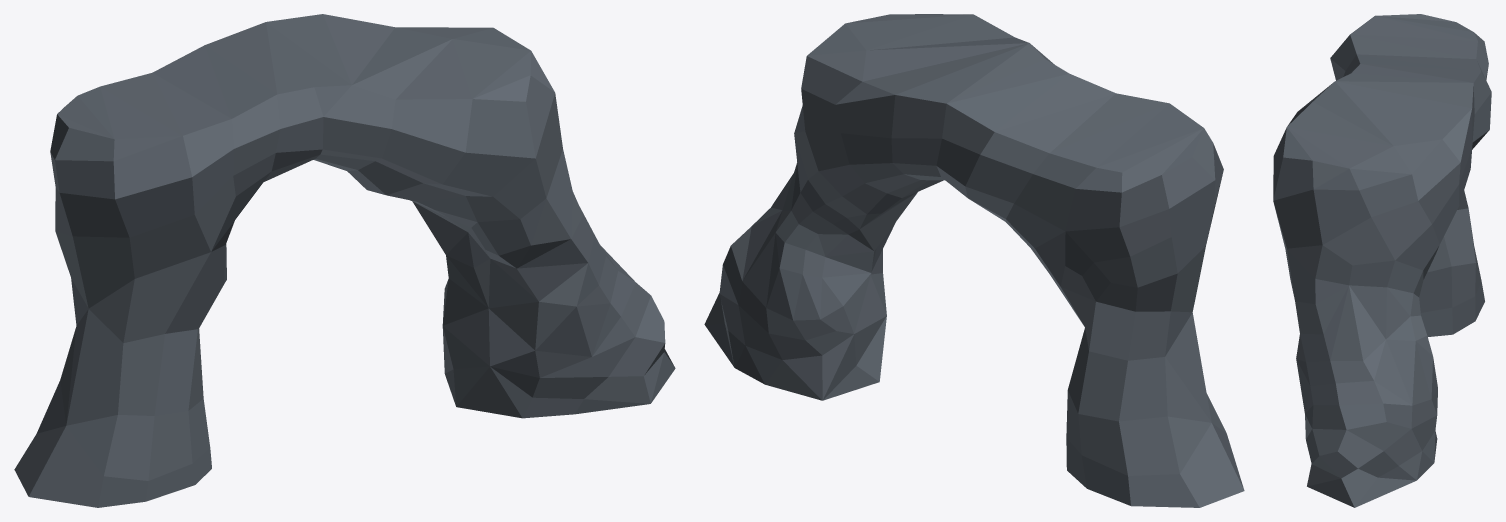
File: Pillar-C13.fbx
3 renders of one model, left to right at view 1: azimuth 30°, elevation 25°; view 2: azimuth 150°, elevation 25°; view 3: azimuth 270°, elevation 25°, orthographic. The views are drawn at different scales.
Parts seen in each view (by area): view 1: Pillar-C13; view 2: Pillar-C13; view 3: Pillar-C13.
Boxes of the visible parts, x1,y1,x2,y2 form: Pillar-C13: [14, 14, 675, 507]; Pillar-C13: [704, 14, 1244, 507]; Pillar-C13: [1273, 14, 1491, 507].
Bounding box in the file's own units: 487 × 190 × 287.
